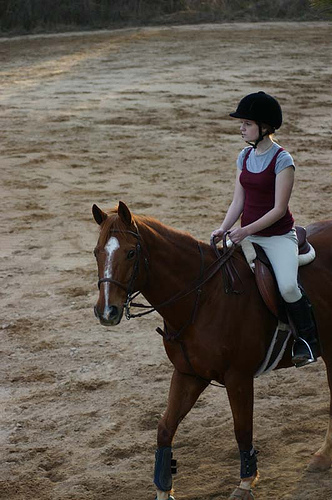without_mask: (236, 116, 272, 145)
